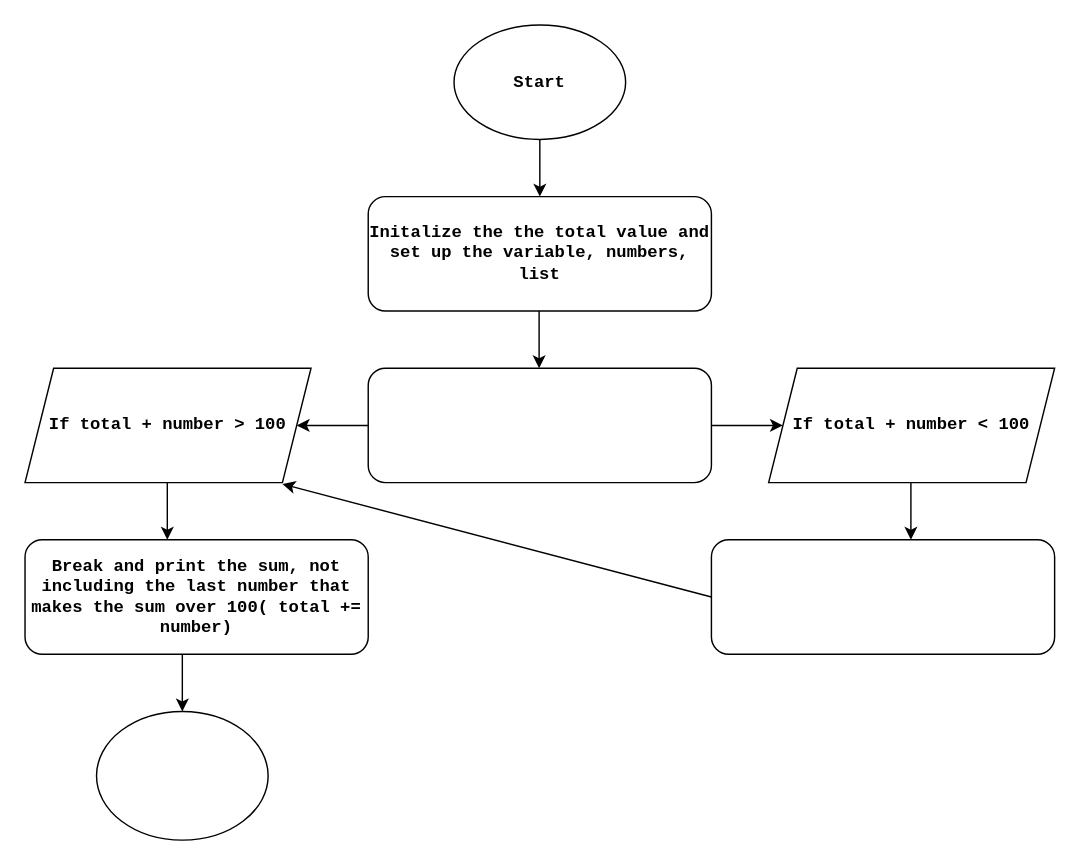
This 1080x865 diagram has some shape labels left out. The shapes that lost their labels are listed below. From the top down, each one's centre as x and y in pixels, then its label:
point (539, 425): Set up the while loop. number=random.randint(0,100), numbers.append(number)
point (882, 596): The program will continue on generating new numbers until the sum is over 100
point (181, 775): End
